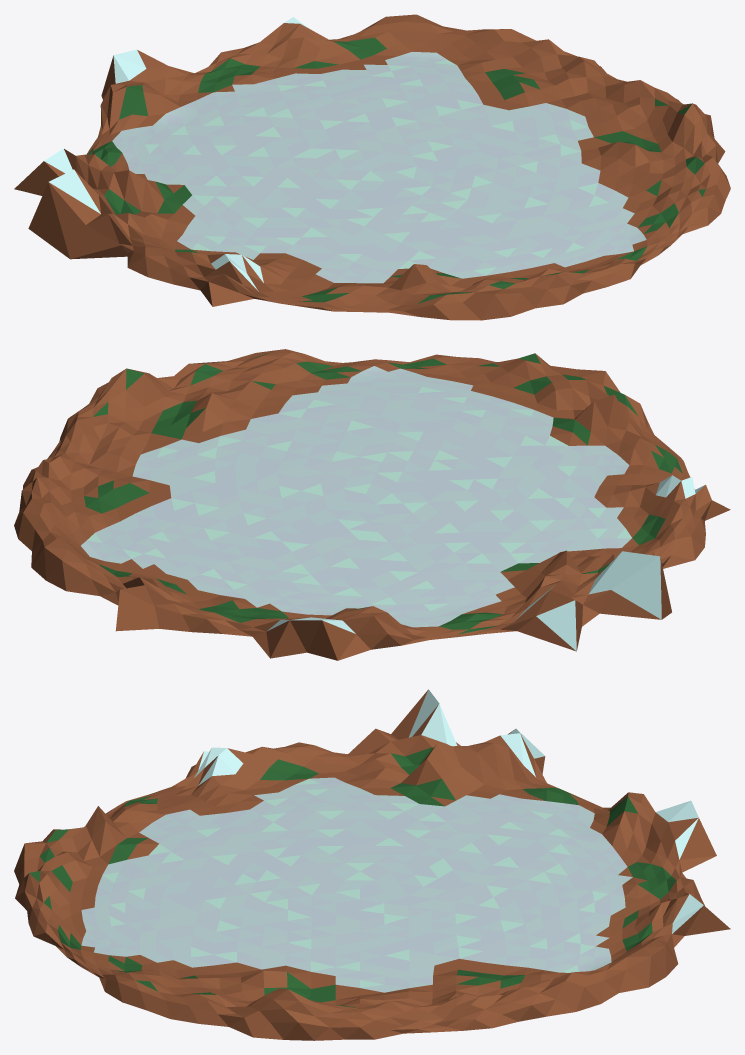
File: World.FBX
3 views of the same model, one above another, from view 1: azimuth 30°, elevation 25°; view 2: azimuth 150°, elevation 25°; view 3: azimuth 270°, elevation 25° (orthographic). The views are drawn at different scales.
Visible parts, largest first — view 1: GeoSphere001; view 2: GeoSphere001; view 3: GeoSphere001.
Boxes of the visible parts, x1=… form: GeoSphere001: x1=14, y1=14, x2=730, y2=320; GeoSphere001: x1=14, y1=349, x2=730, y2=660; GeoSphere001: x1=14, y1=689, x2=730, y2=1040.
Size of the model in its own units: 279 by 50.7 by 277.
